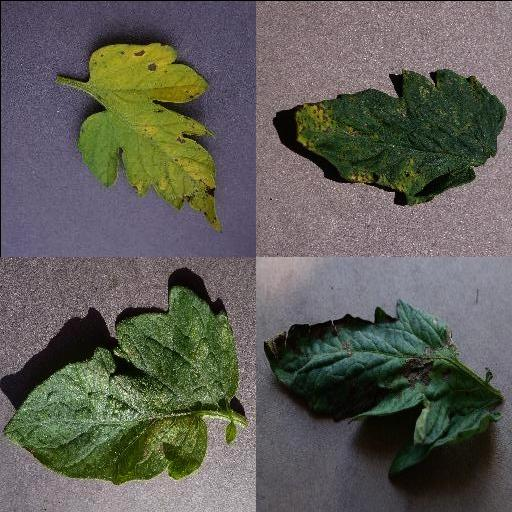Early Blight: (261, 298, 505, 478)
Septoria: (294, 66, 506, 206), (78, 40, 223, 236)
Spider Mites: (4, 283, 238, 483)
